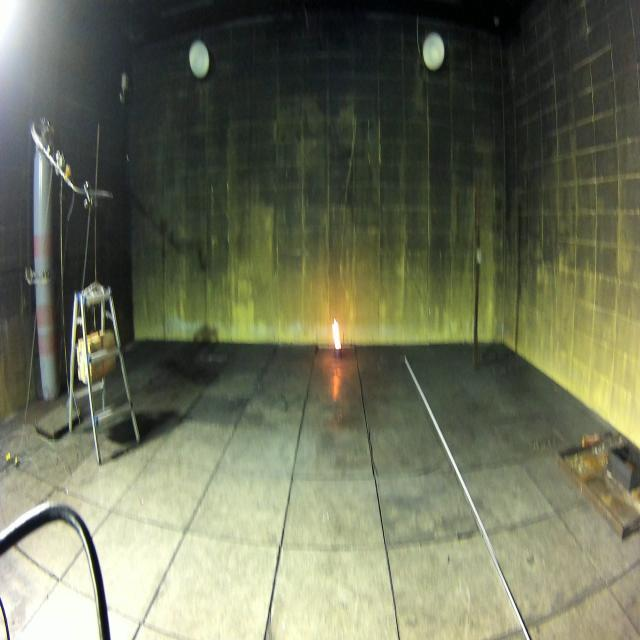Fire: (332, 318, 342, 350)
